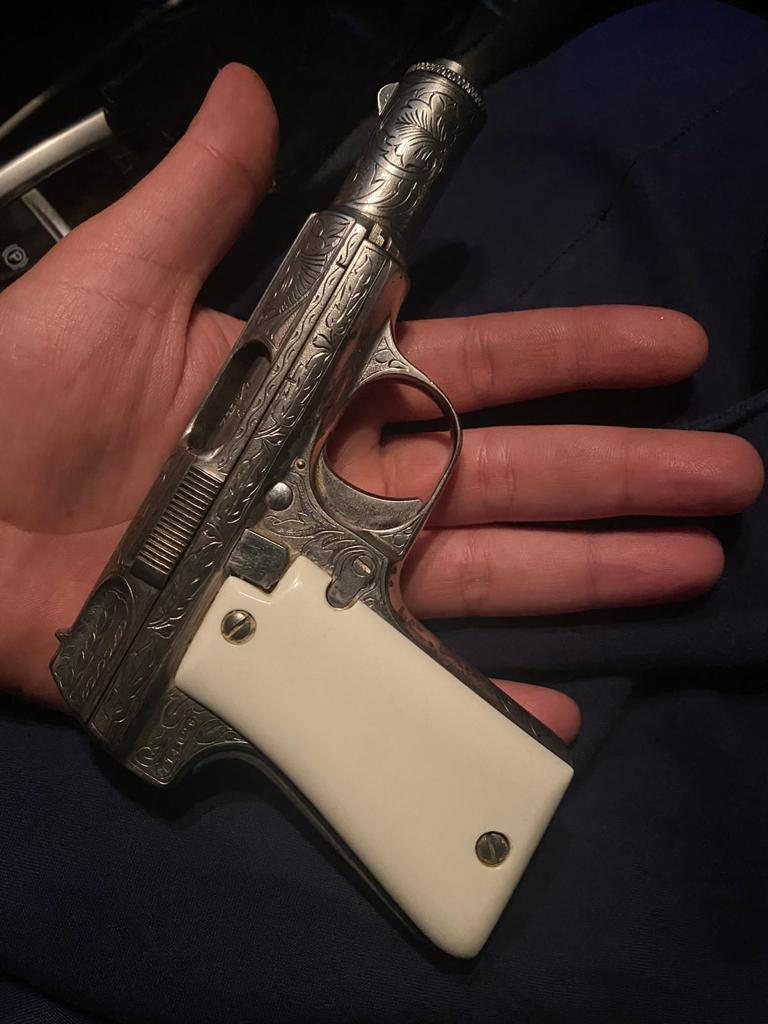weapon: (49, 56, 590, 976)
